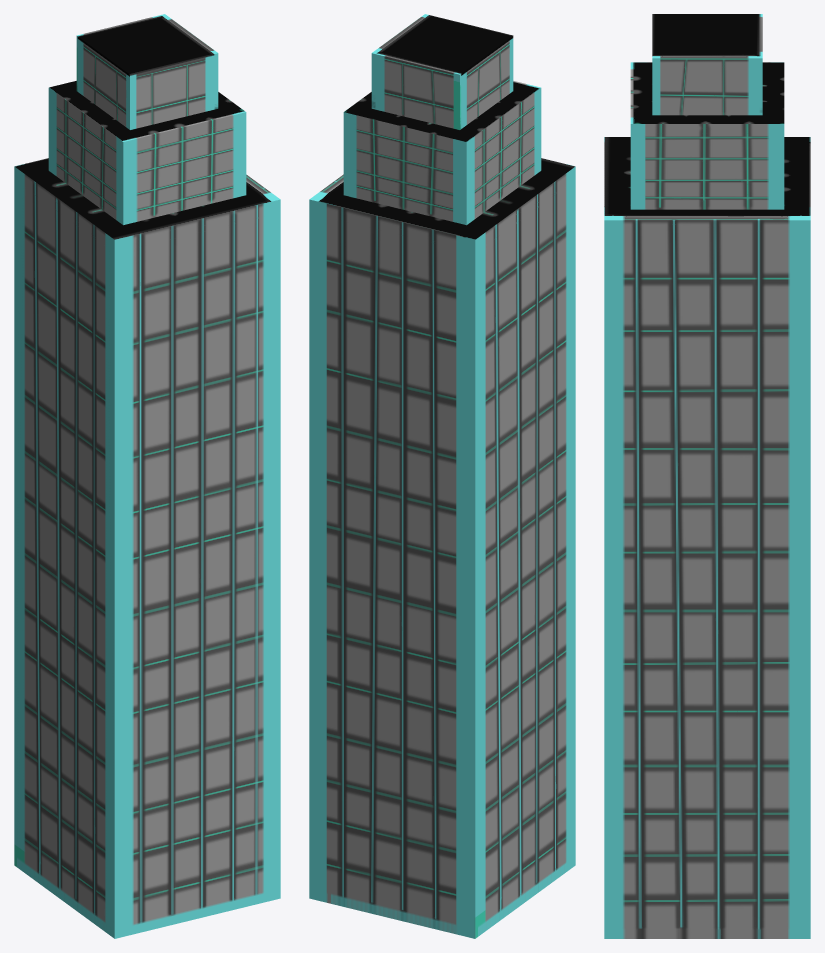
The model's file is tufure bill.fbx.
The picture shows the model from 3 angles, left to right: view 1: azimuth 30°, elevation 25°; view 2: azimuth 150°, elevation 25°; view 3: azimuth 270°, elevation 25°; orthographic projection. The views are drawn at different scales.
Parts seen in each view (by area): view 1: pCube1; view 2: pCube1; view 3: pCube1.
Boxes of the visible parts, x1=… form: pCube1: x1=14, y1=14, x2=280, y2=938; pCube1: x1=309, y1=14, x2=575, y2=938; pCube1: x1=604, y1=14, x2=810, y2=938.
Bounding box in the file's own units: 5.23 × 25.22 × 5.48.
1 material, 1 textured.
